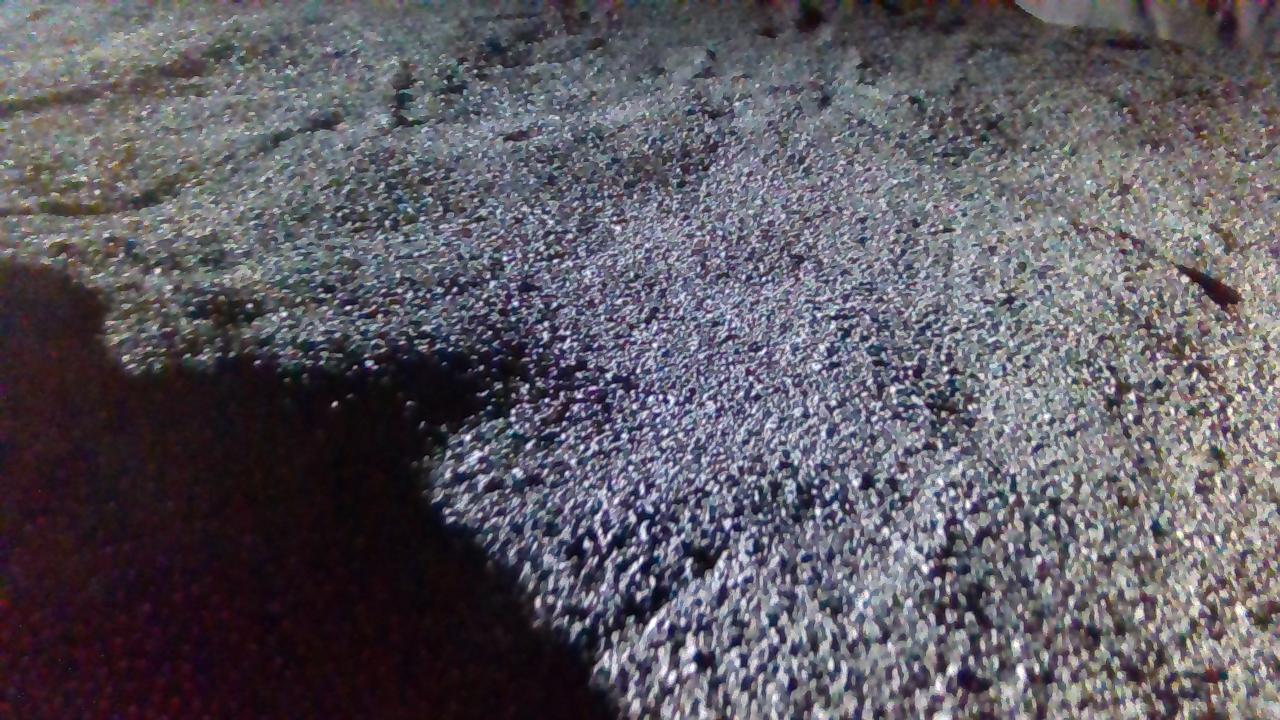rock: (1020, 0, 1280, 51)
